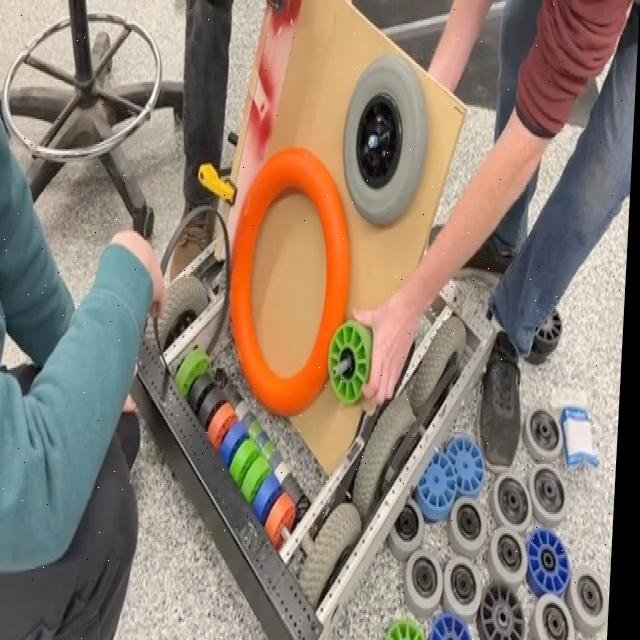note: (226, 143, 361, 421)
